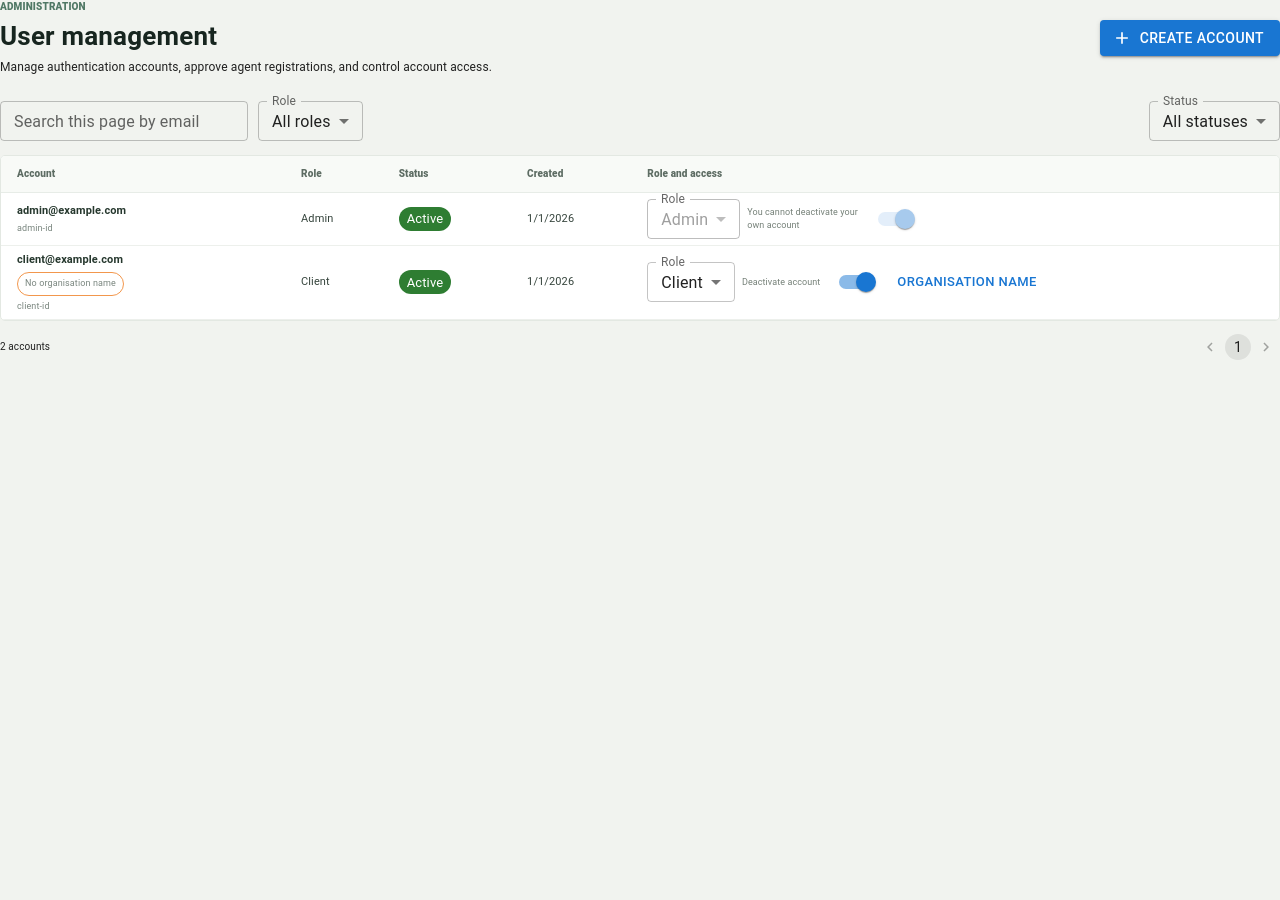
Test: client organisation names › shows a missing organisation name and lets the admin set it
Expected: the text "No organisation name" is shown, [18,277,123,290]
Click the button with aria-label "Set organisation name for client@example.com": (967, 282) [892,267,1042,298]
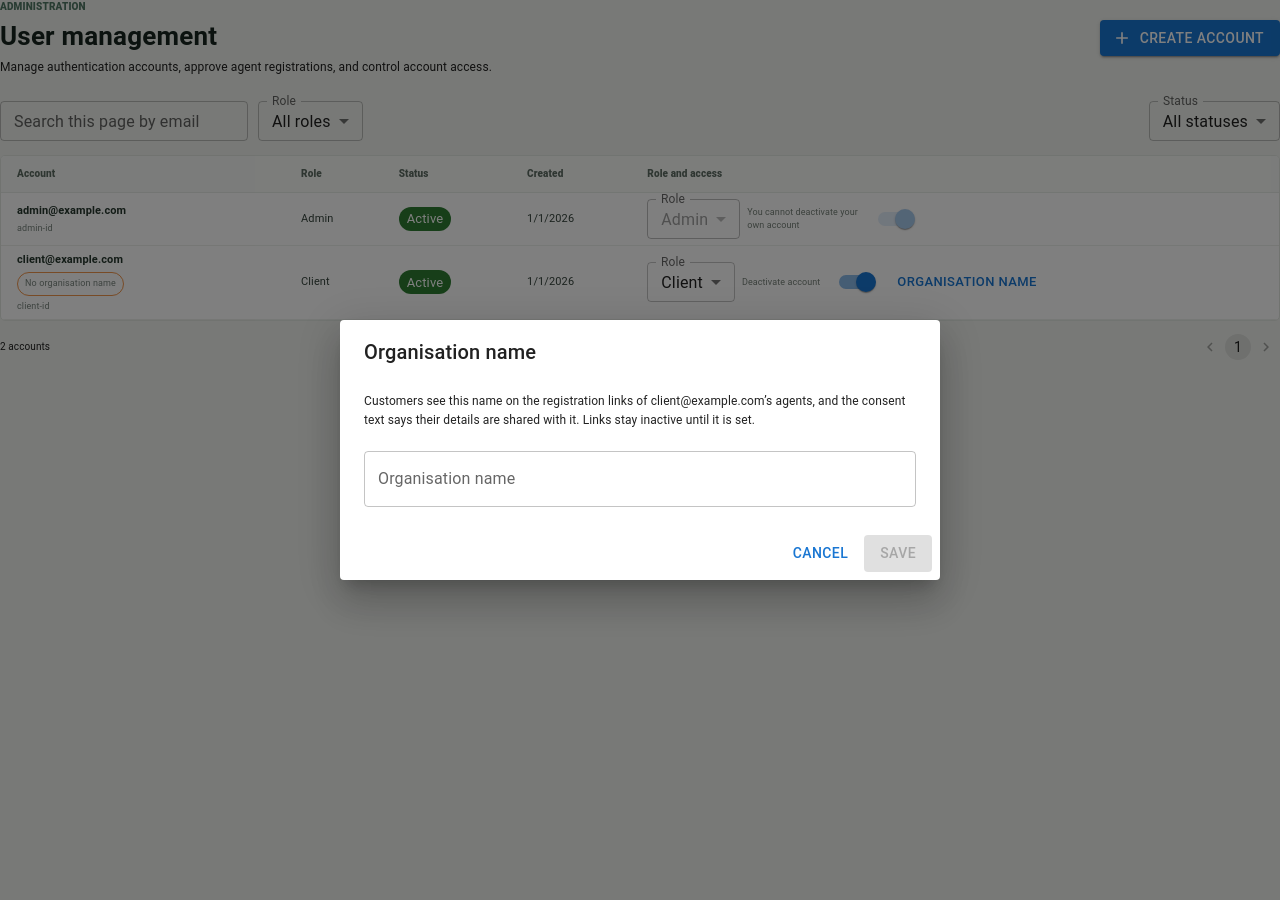
In the field labelled "Organisation name": (640, 479) [364,451,916,507], type "  Acme Bank "
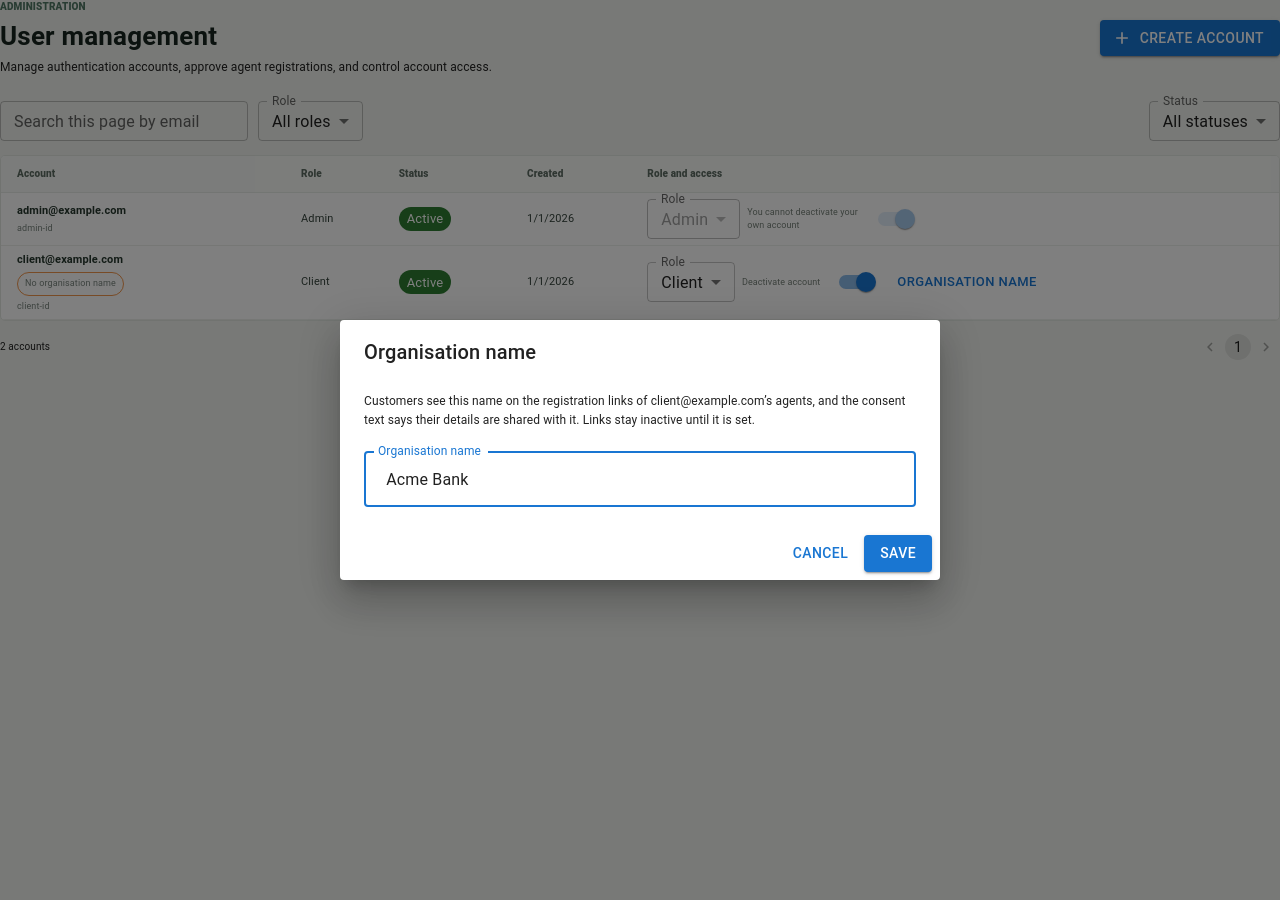
Click the button "Save": (898, 554) [864,535,932,572]
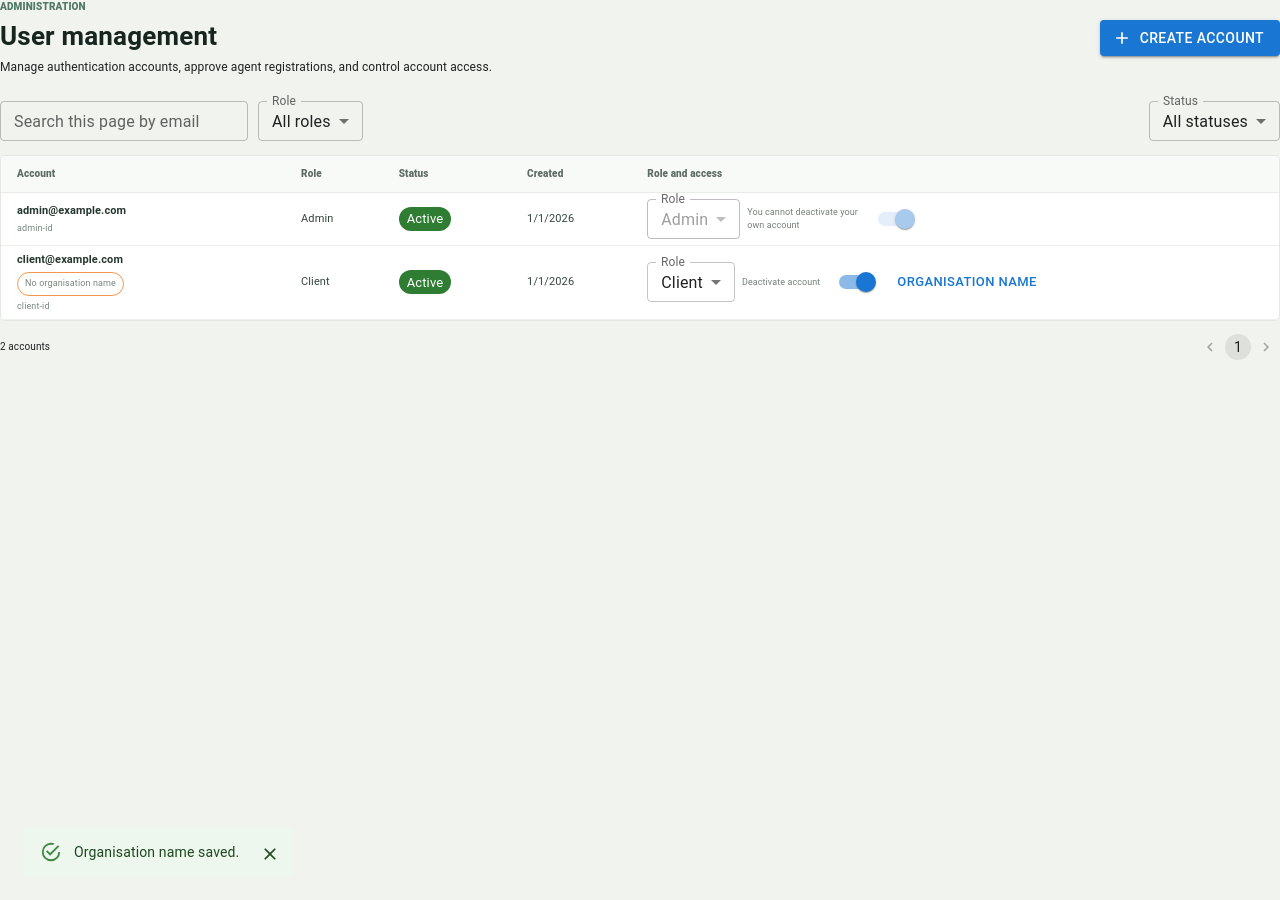
Expected: the text "Organisation name saved." is shown, [74,844,239,860]
